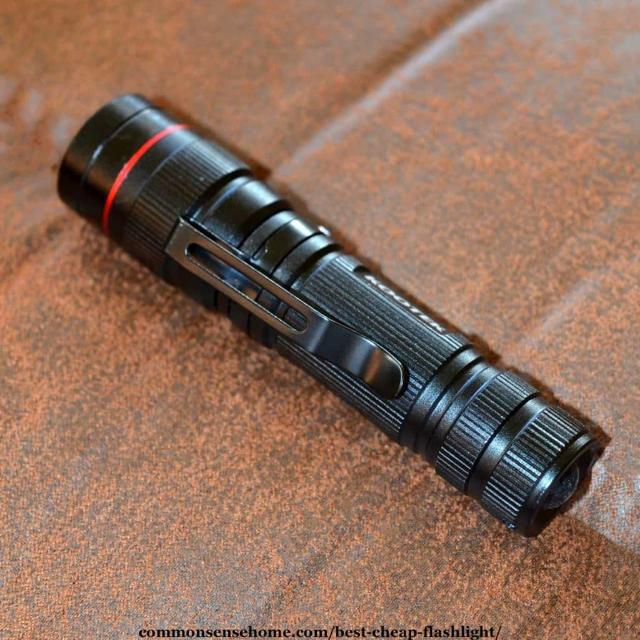Flashlight: (48, 82, 612, 544)
